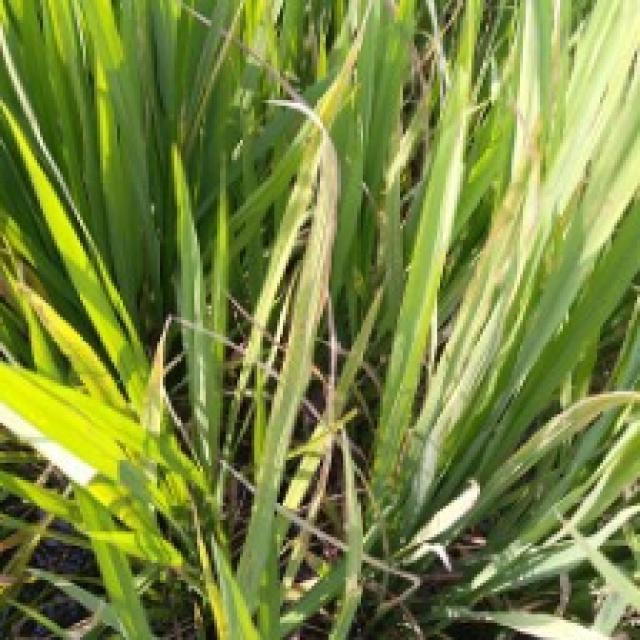Rice___Bacterial_Leaf_Blight: (232, 97, 340, 637)
